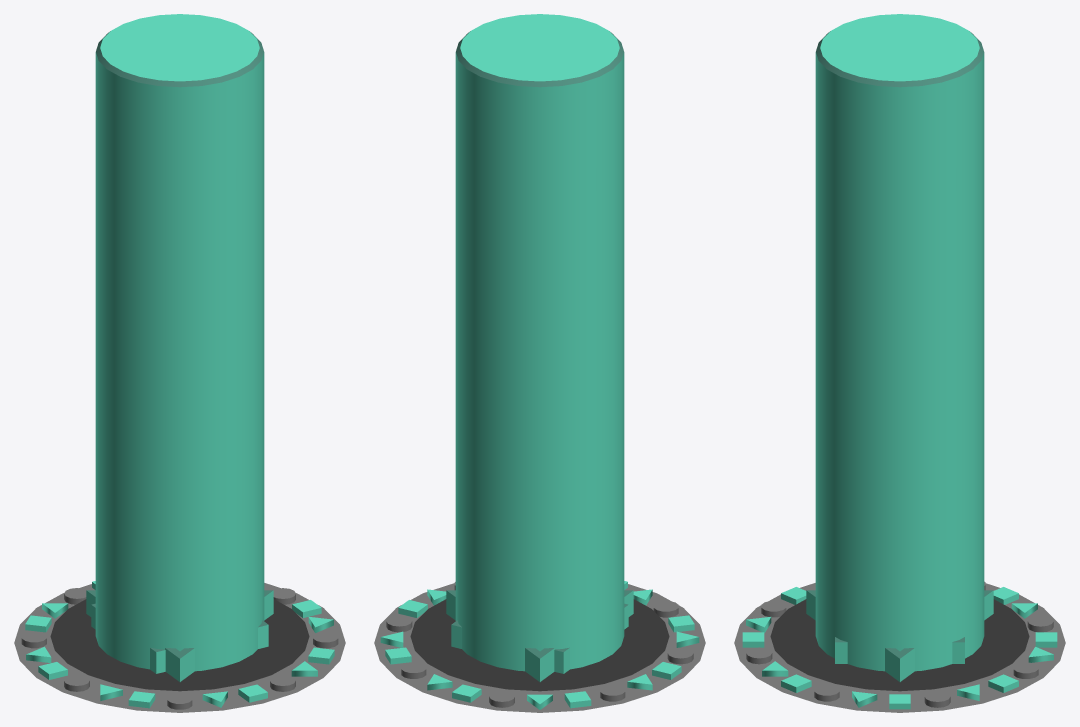
The model's file is base_square_triangle_objects.fbx.
3 renders of one model, left to right at view 1: azimuth 30°, elevation 25°; view 2: azimuth 150°, elevation 25°; view 3: azimuth 270°, elevation 25°, orthographic.
Visible parts, largest first — view 1: tube_circle, PT_triangle_square, plateau_circle, prisme001, tube_square001; view 2: tube_circle, PT_triangle_square, plateau_circle, prisme001, tube_square001; view 3: tube_circle, PT_triangle_square, plateau_circle, prisme001, tube_square001.
Boxes of the visible parts, <box> form: tube_circle: <box>95,14,264,671</box>; PT_triangle_square: <box>14,581,345,712</box>; plateau_circle: <box>50,599,309,691</box>; prisme001: <box>86,590,273,681</box>; tube_square001: <box>91,603,268,673</box>; tube_circle: <box>455,14,624,671</box>; PT_triangle_square: <box>374,581,705,712</box>; plateau_circle: <box>410,599,669,691</box>; prisme001: <box>446,590,633,681</box>; tube_square001: <box>451,603,628,673</box>; tube_circle: <box>815,14,984,671</box>; PT_triangle_square: <box>734,581,1065,712</box>; plateau_circle: <box>770,599,1029,691</box>; prisme001: <box>806,590,993,681</box>; tube_square001: <box>835,637,964,663</box>.
Bounding box in the file's own units: 30.13 × 30.13 × 59.68.
